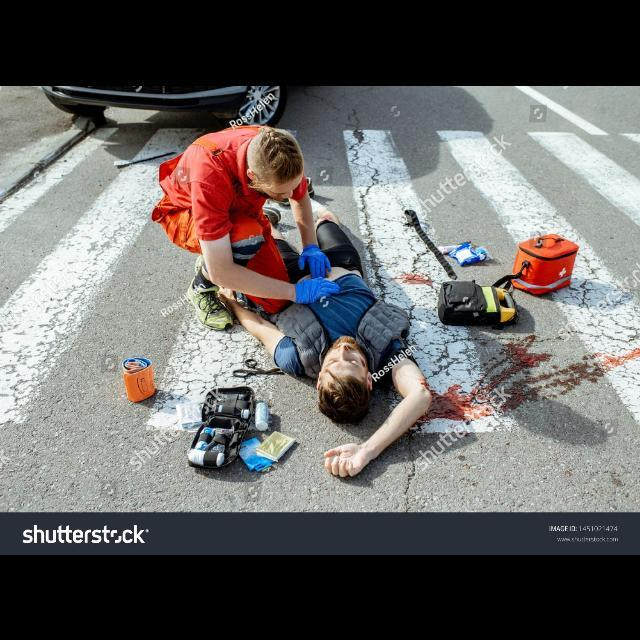blood: (481, 336, 640, 411), (425, 384, 473, 420), (399, 272, 433, 285)
